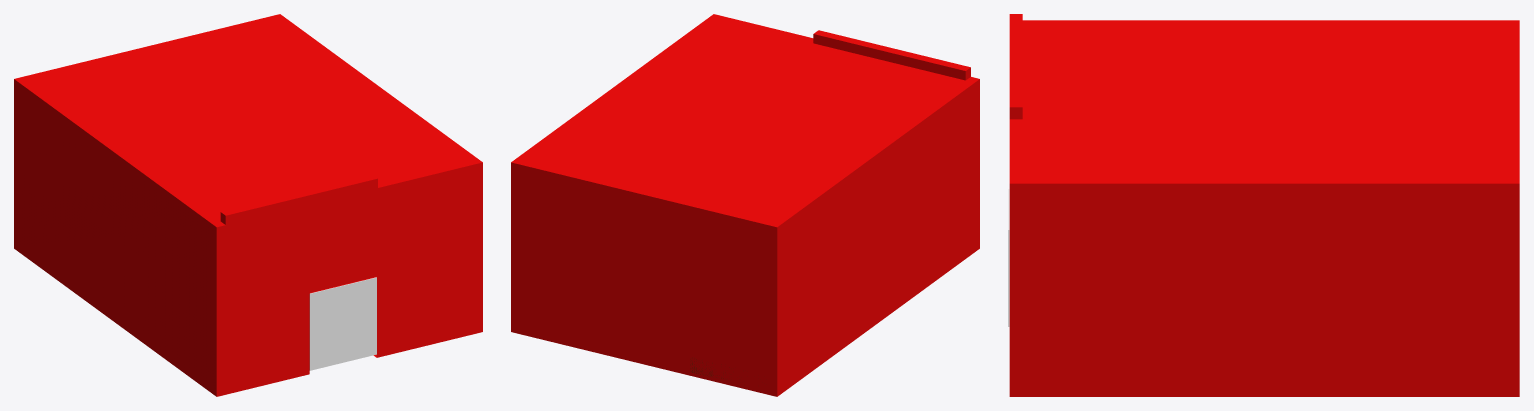
The model's file is Room.fbx.
3 views of the same model, side by side, from view 1: azimuth 30°, elevation 25°; view 2: azimuth 150°, elevation 25°; view 3: azimuth 270°, elevation 25° (orthographic). The views are drawn at different scales.
Parts seen in each view (by area): view 1: Player_room, Door; view 2: Player_room; view 3: Player_room.
Part boxes in pixels (left/top/right/bottom): Player_room: left=14, top=14, right=482, bottom=396; Door: left=309, top=277, right=376, bottom=370; Player_room: left=511, top=14, right=979, bottom=396; Player_room: left=1009, top=14, right=1519, bottom=396.
Size of what is drawn, in the model's own units: 1478 by 950 by 1954.
